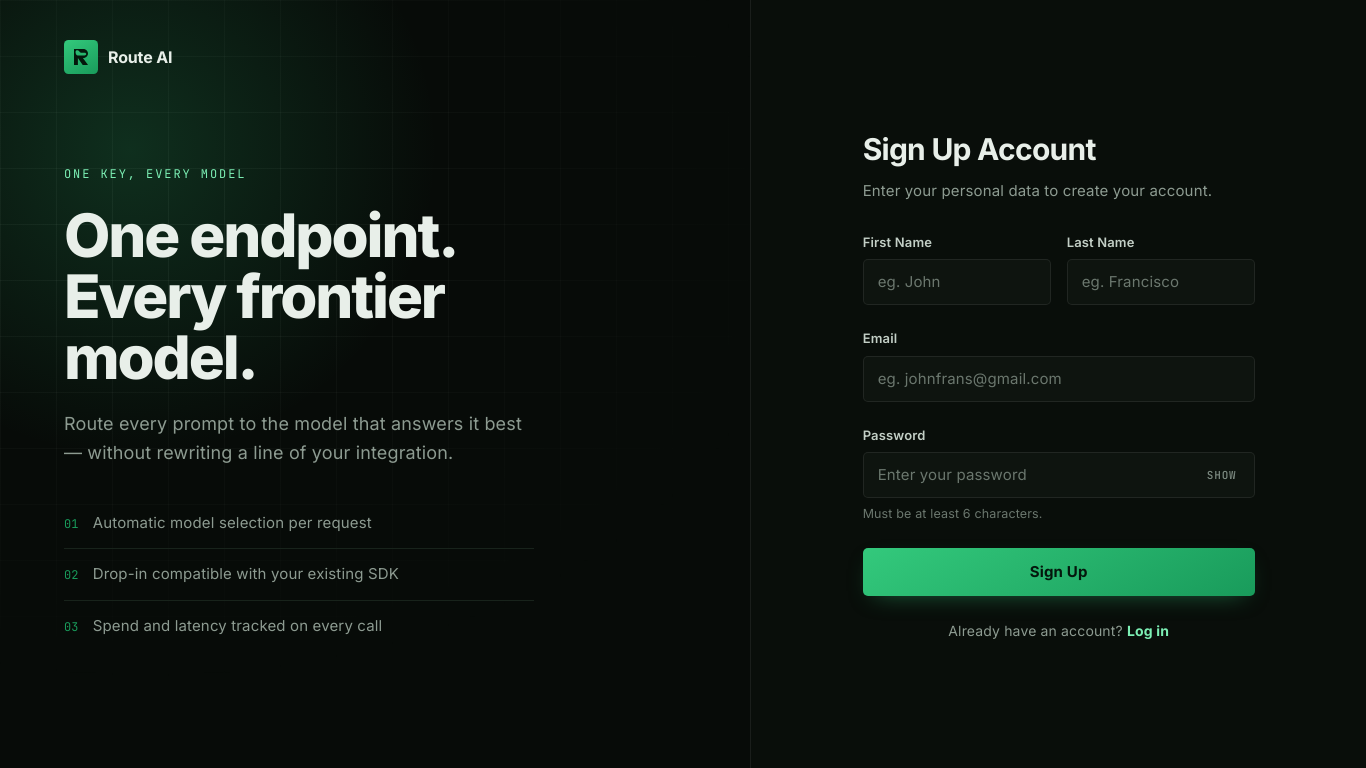
Scenario: Signup › client-side validation › clears a field error when the user edits that field
The image size is (1366, 768).
Click the button "Sign Up".
click(1059, 572)  # box [863,548,1255,596]
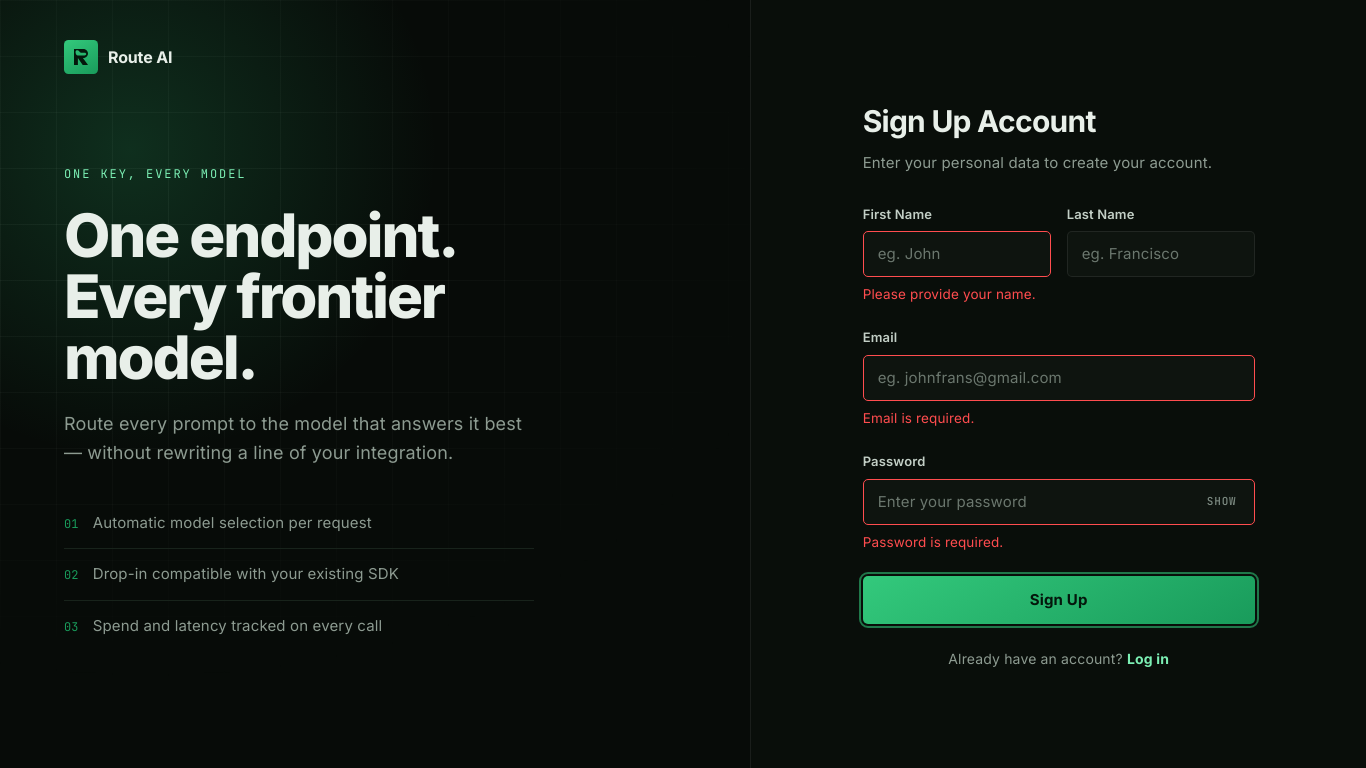
Now the text "Email is required." is shown, box [863,410,974,426]
Type "j" into the field labelled "Email".
click(1059, 378); type("j")  # box [878,363,1240,393]
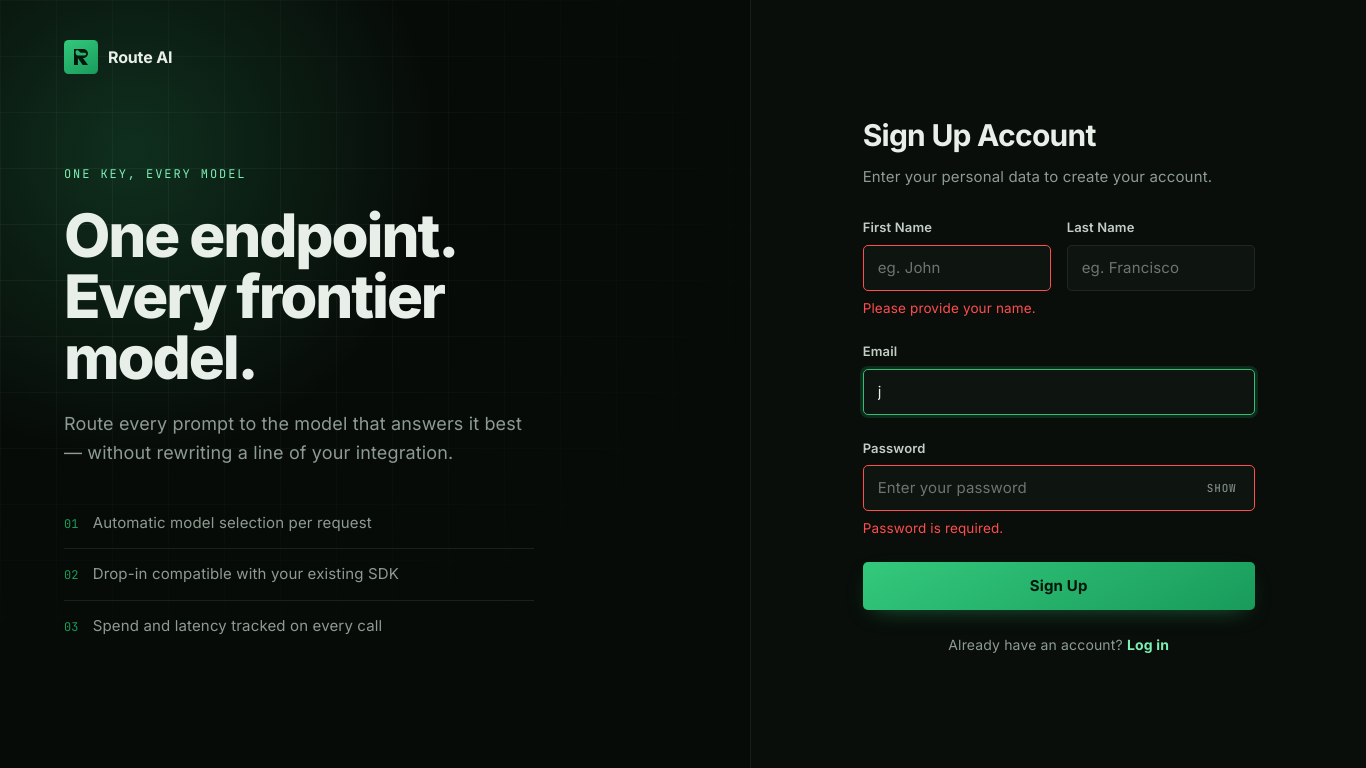
Now the text "Email is required." is gone
